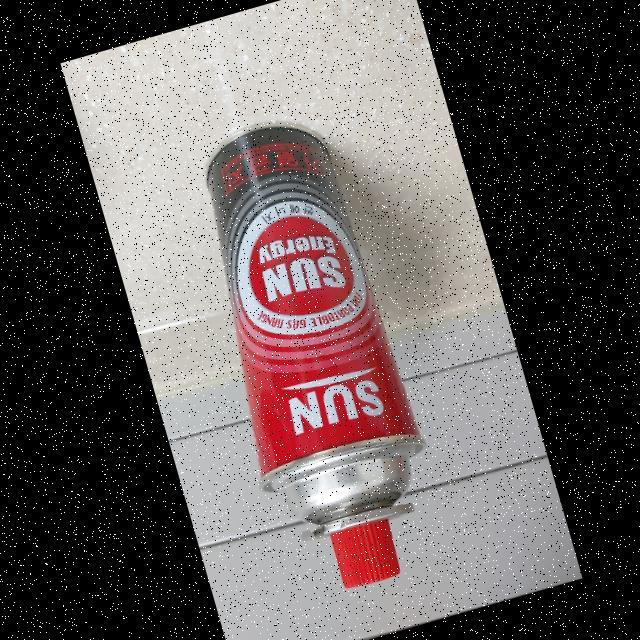chemical_spray_can: (156, 100, 460, 612)
